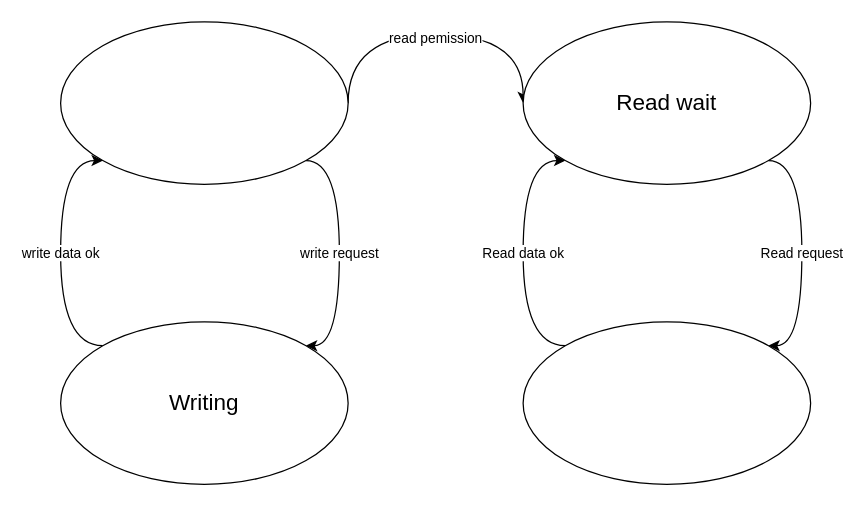
This 864x506 diagram has some shape labels left out. Each missing label, with the centre of its shape:
"Reading" belongs at (x=666, y=402).
"Write wait" belongs at (x=203, y=102).
